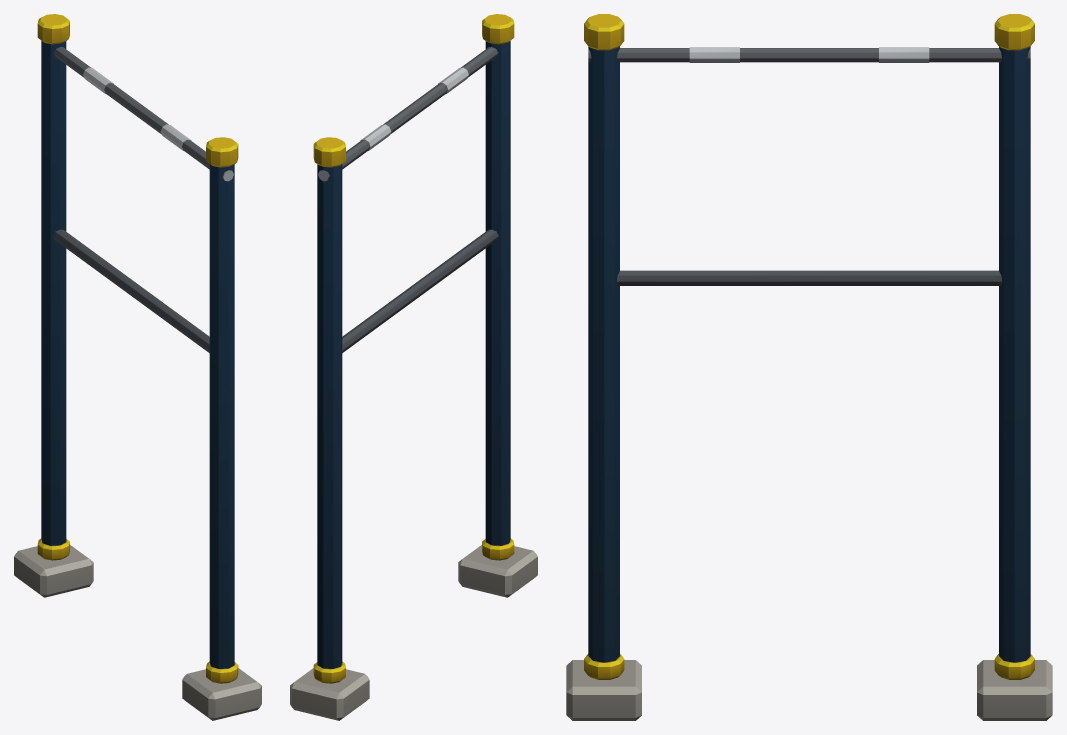
The model's file is pullup_bar.glb.
3 renders of one model, left to right at view 1: azimuth 30°, elevation 25°; view 2: azimuth 150°, elevation 25°; view 3: azimuth 270°, elevation 25°, orthographic. The views are drawn at different scales.
Visible parts, largest first — view 1: Body; view 2: Body; view 3: Body.
Boxes of the visible parts, x1=… form: Body: x1=14, y1=14, x2=261, y2=720; Body: x1=290, y1=14, x2=537, y2=720; Body: x1=566, y1=14, x2=1052, y2=720.
Bounding box in the file's own units: 0.24 × 2.4 × 1.54.
